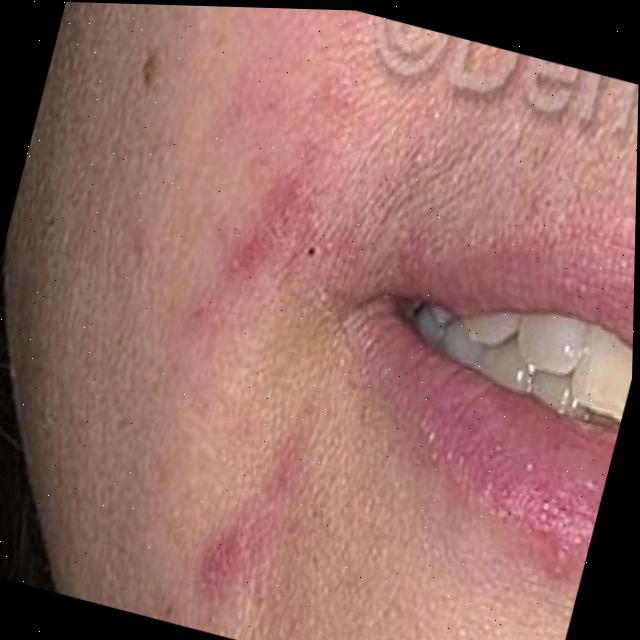Rosacea: (184, 48, 371, 355), (180, 407, 324, 612)
